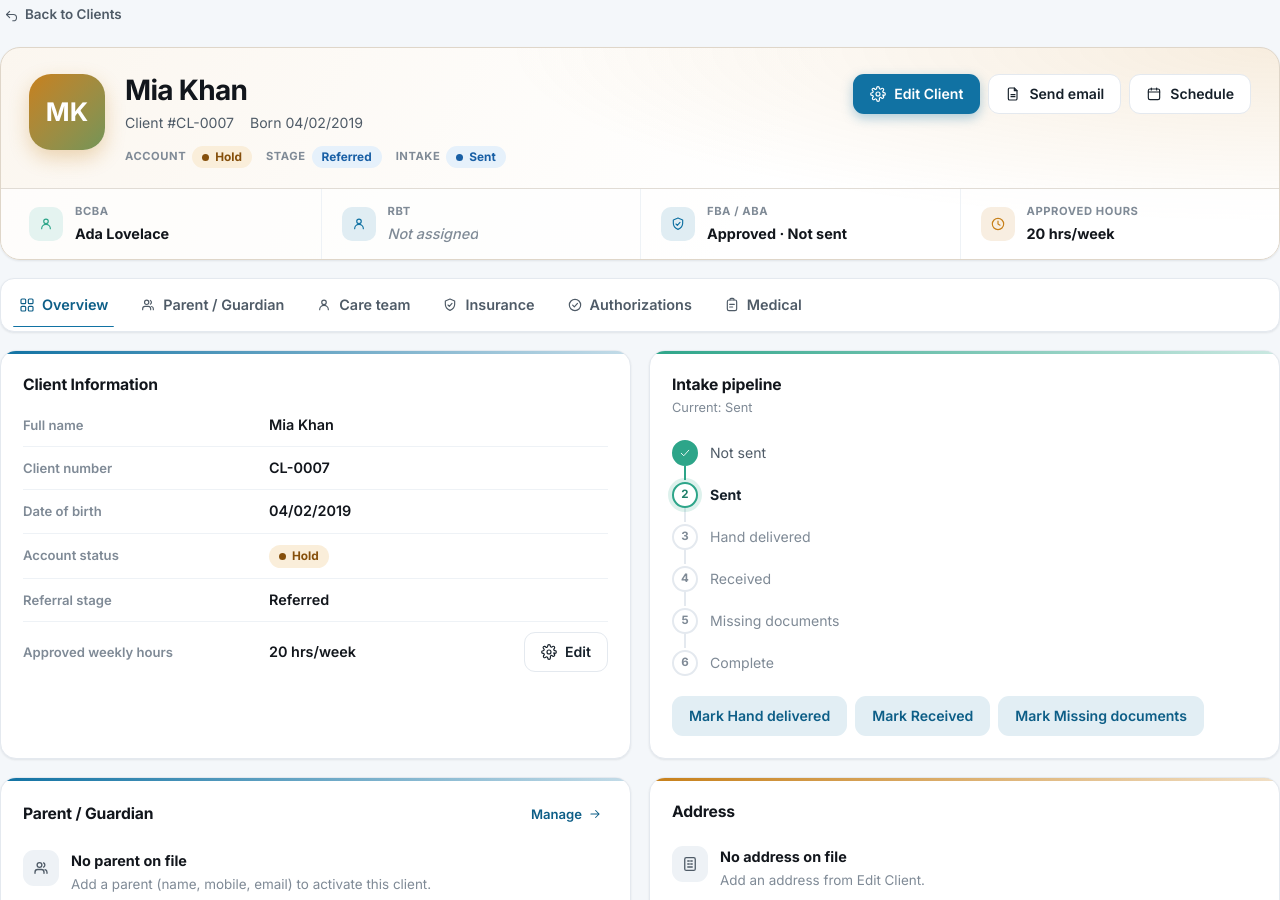
Test: Client profile — saved email templates › Send email lists saved templates alongside the built-in catalog
The width and height of the screenshot is (1280, 900).
Click the button "Send email" at (1055, 94), box [988,74,1121,114]
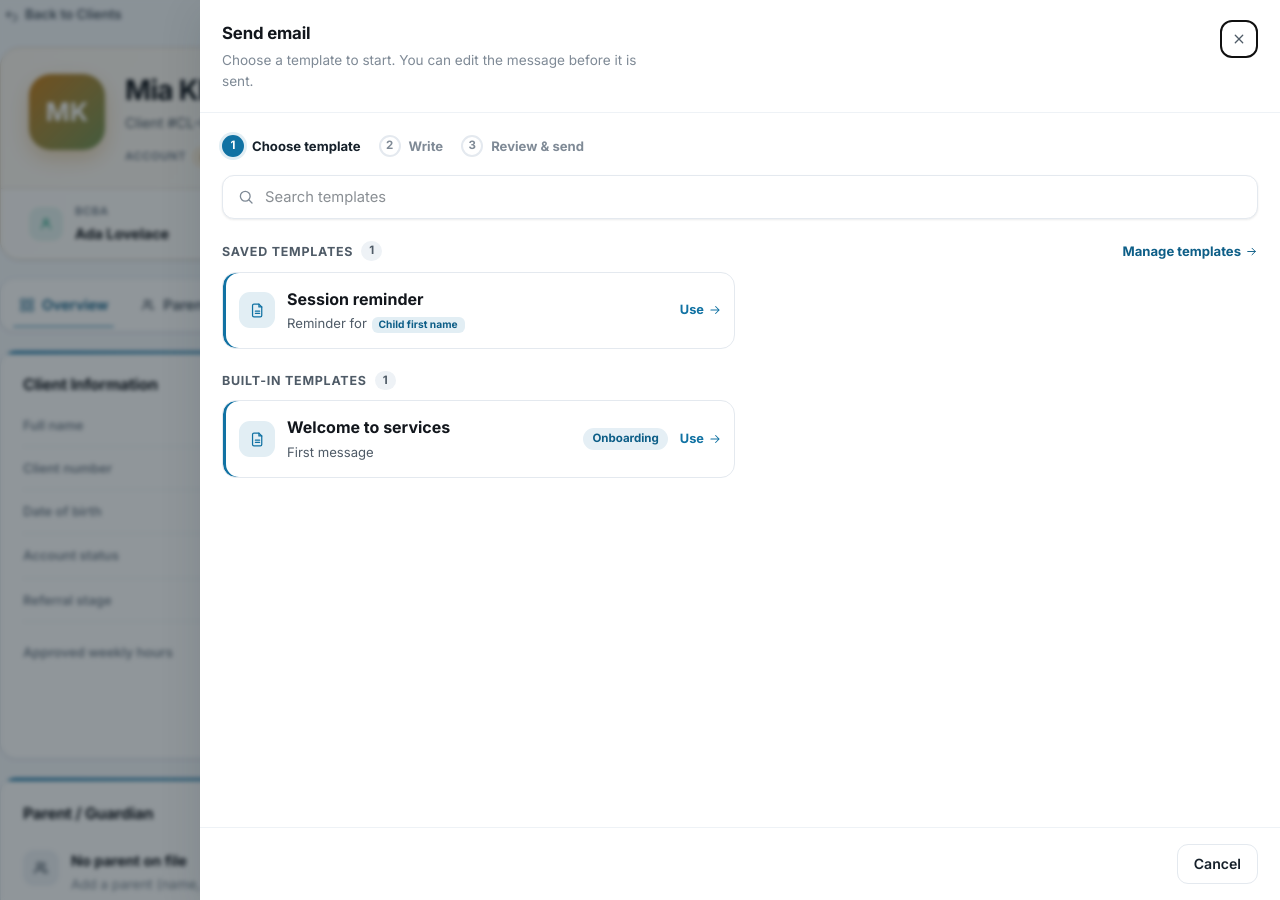
Expected: the element named "Saved templates" shows "Session reminder", [223,272,734,348]
Expected: the element named "Built-in templates" shows "Welcome to services", [223,402,734,477]
